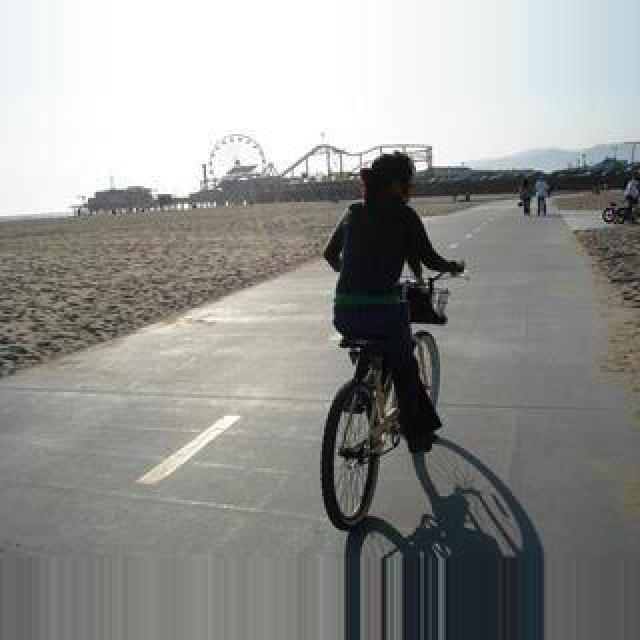Emergency Vehicles-Bike: (604, 200, 638, 224)
MC-Bike: (324, 154, 464, 492), (624, 168, 640, 224), (534, 174, 550, 220), (518, 176, 532, 218)
Person: (317, 266, 465, 538)
